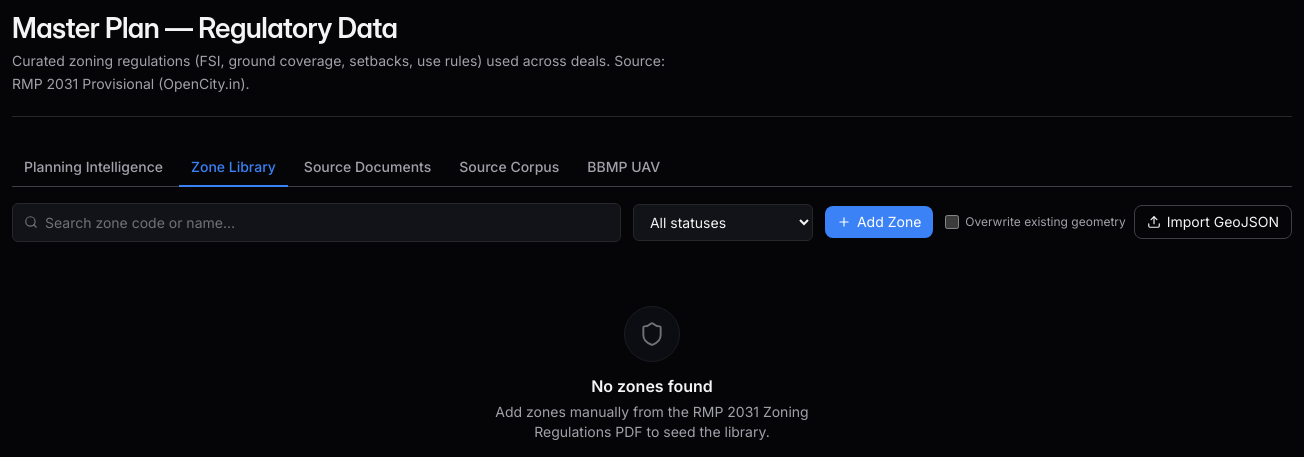
Test case: MasterPlanAdminPage source documents › shows loading and failed states without document rows
Step 1. Click the button "Source Documents" → (368, 168), box [292, 149, 443, 187]
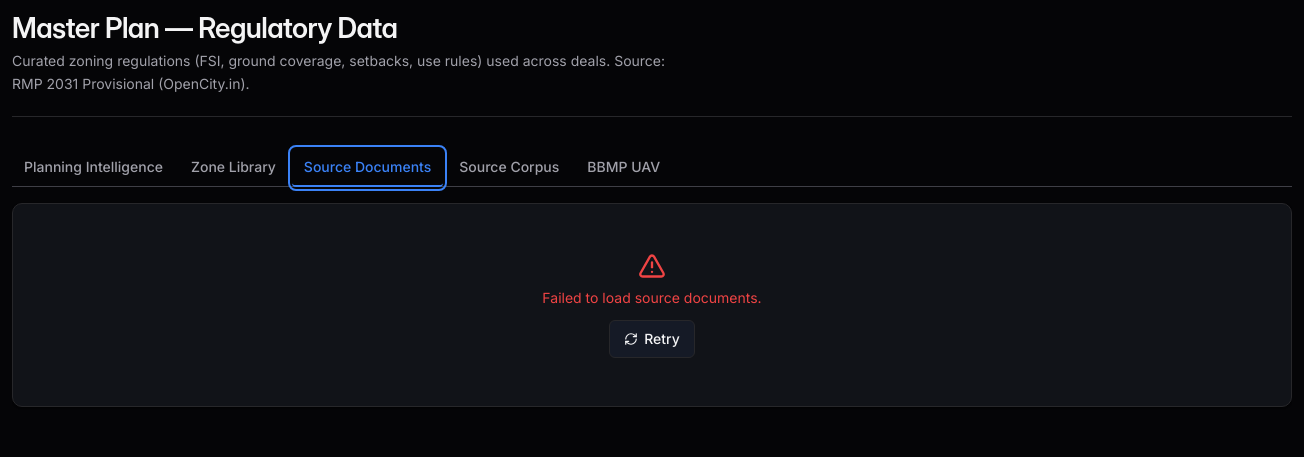
Check: the text "Failed to load source documents." is shown, box [542, 289, 762, 306]
Check: the button "Retry" is shown, box [609, 320, 695, 358]
